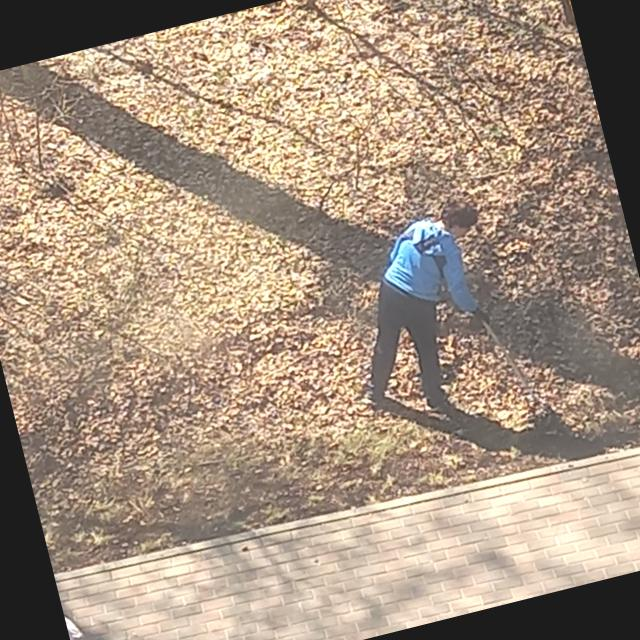person: (324, 196, 520, 430)
